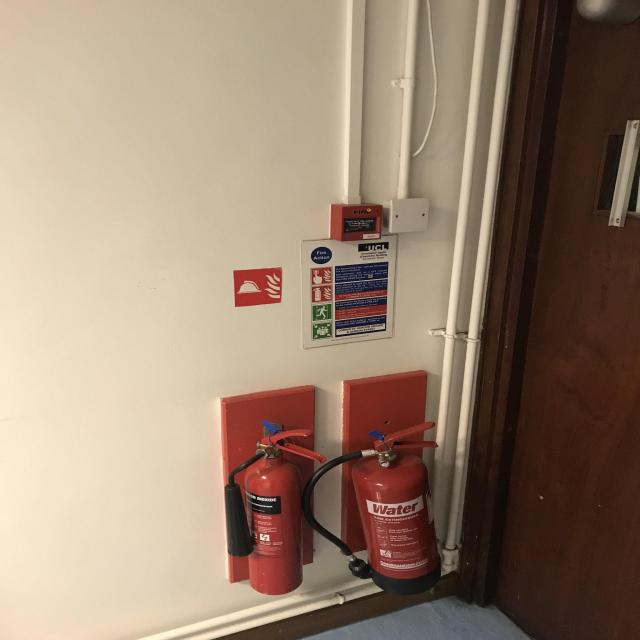fire_extinguisher: (299, 421, 449, 597), (220, 422, 328, 598)
